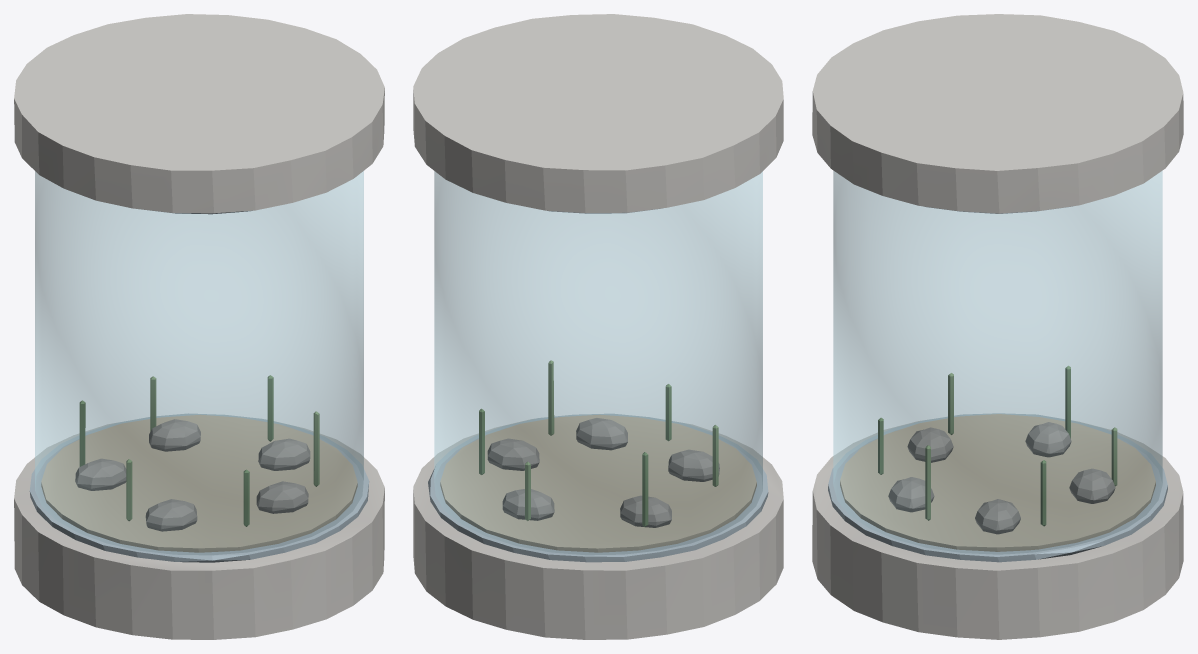
The model's file is furn_aquarium_pillar__white_low.glb.
3 renders of one model, left to right at view 1: azimuth 30°, elevation 25°; view 2: azimuth 150°, elevation 25°; view 3: azimuth 270°, elevation 25°, orthographic.
Bounding box in the file's own units: 1.9 × 2.65 × 1.9.
